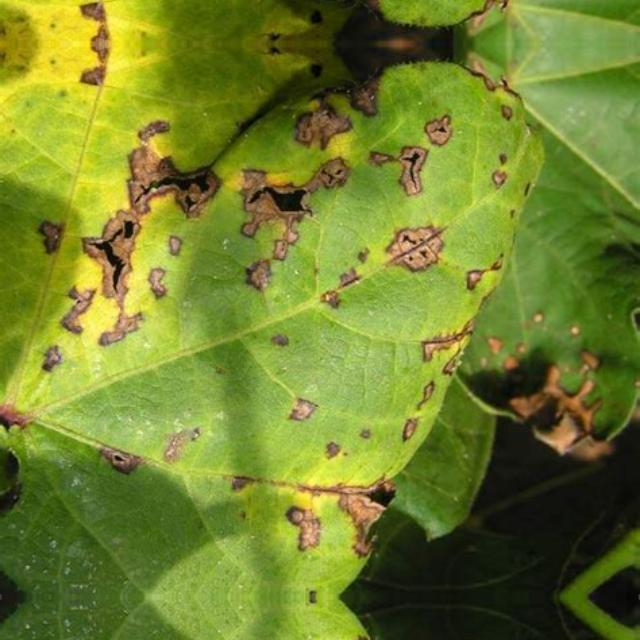Lettuce - Anthracnose: (4, 44, 540, 596), (4, 597, 540, 640), (4, 0, 540, 42)
